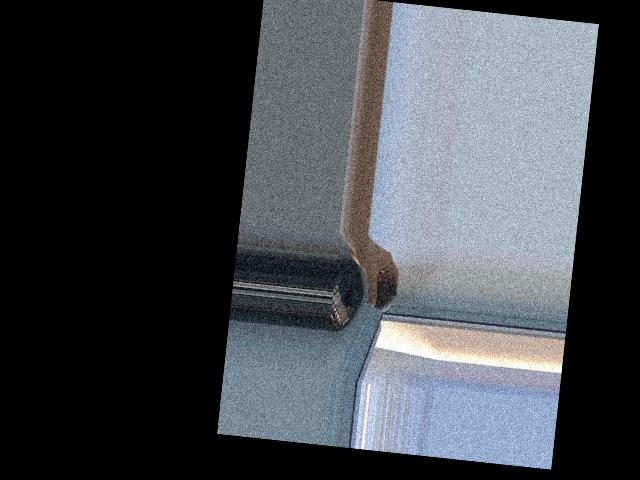beet: (364, 275, 398, 313)
